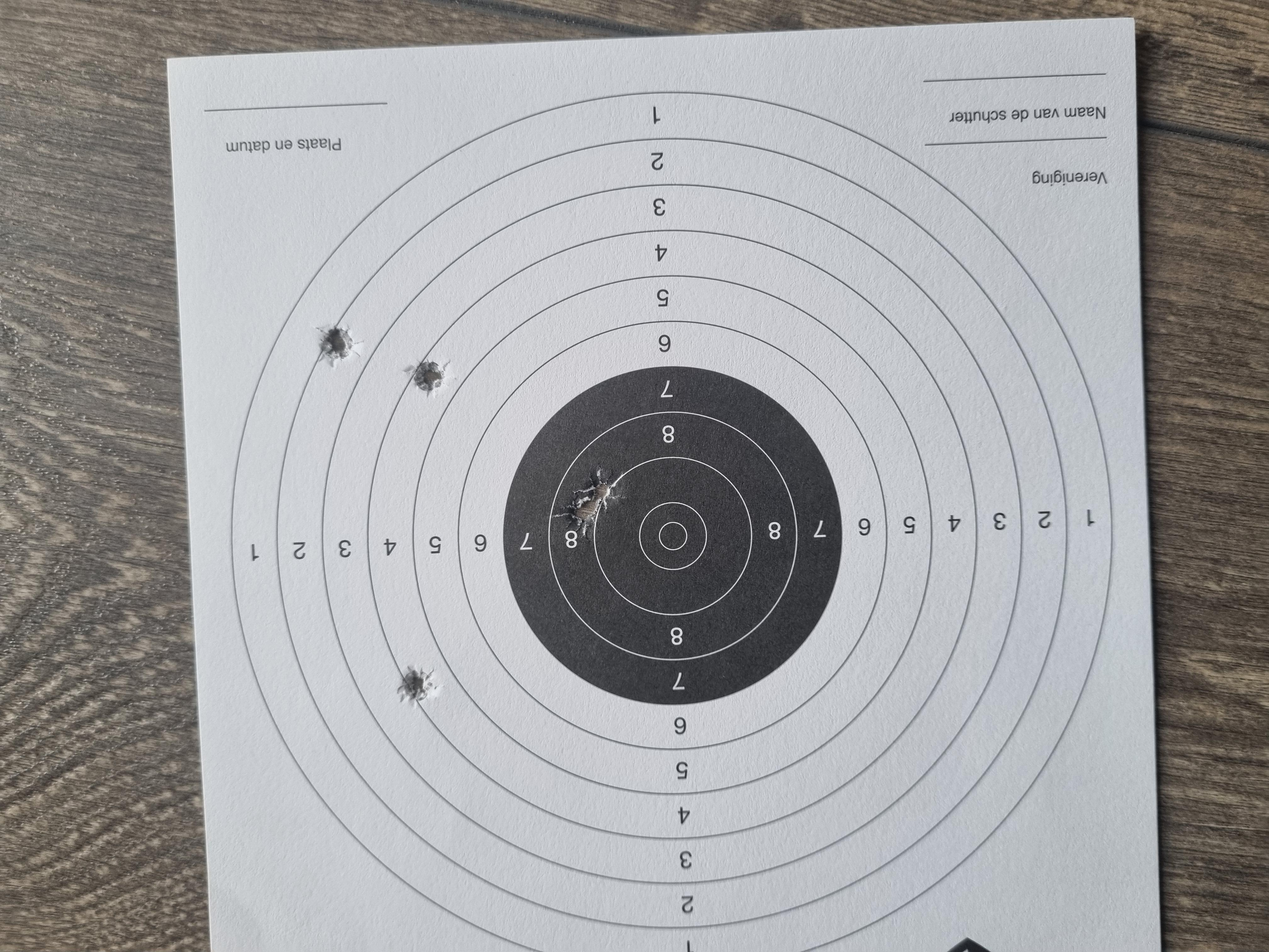hole: (588, 432, 645, 469), (780, 237, 833, 273), (552, 414, 606, 448), (740, 309, 791, 338), (333, 298, 381, 326)
